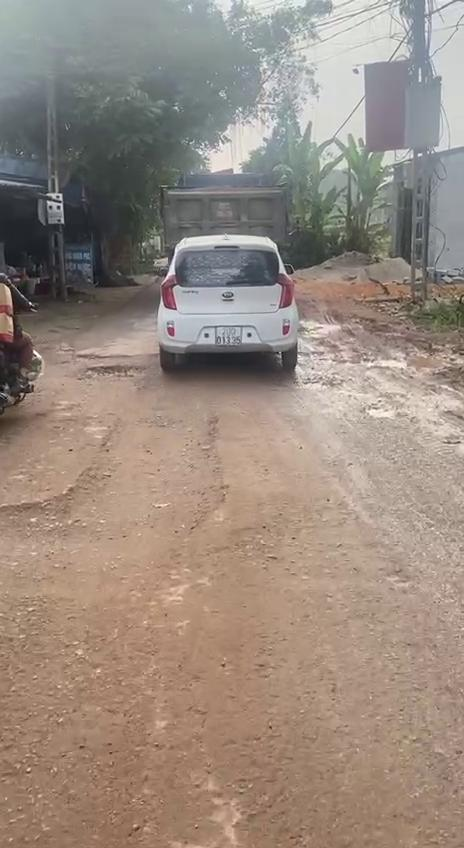pothole: (0, 476, 233, 542), (80, 362, 155, 384), (290, 376, 338, 392)
